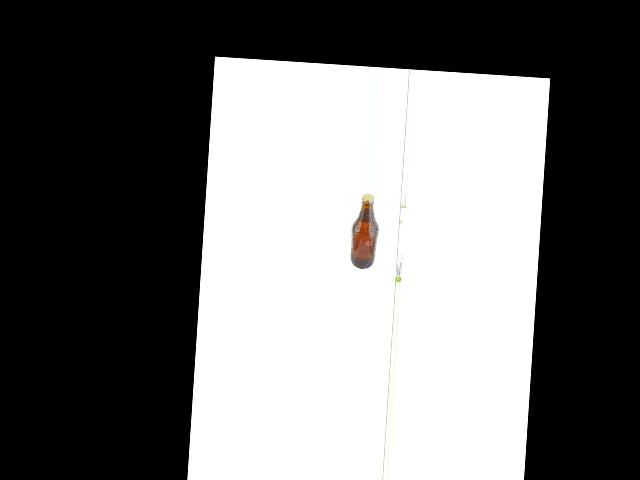beer: (349, 193, 381, 269)
